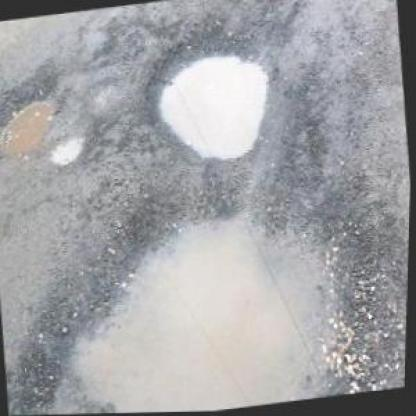pothole: (13, 164, 374, 414), (143, 25, 287, 172), (0, 72, 68, 162), (48, 128, 88, 169)
